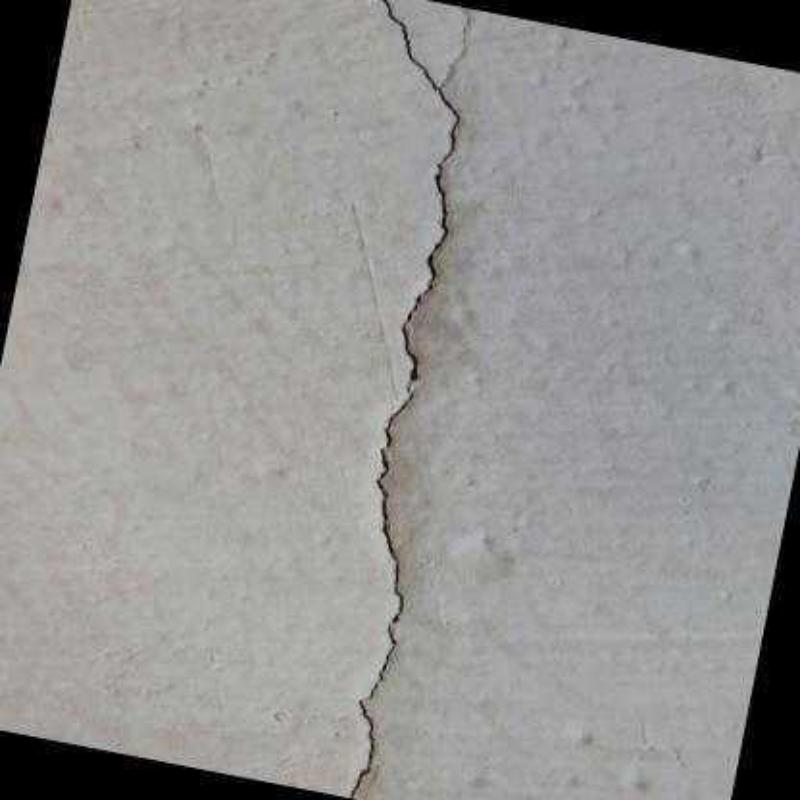crack: (345, 0, 463, 798), (440, 8, 473, 85)
